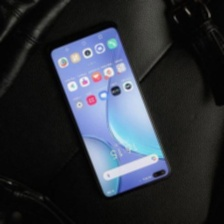phone: (46, 20, 176, 204)
